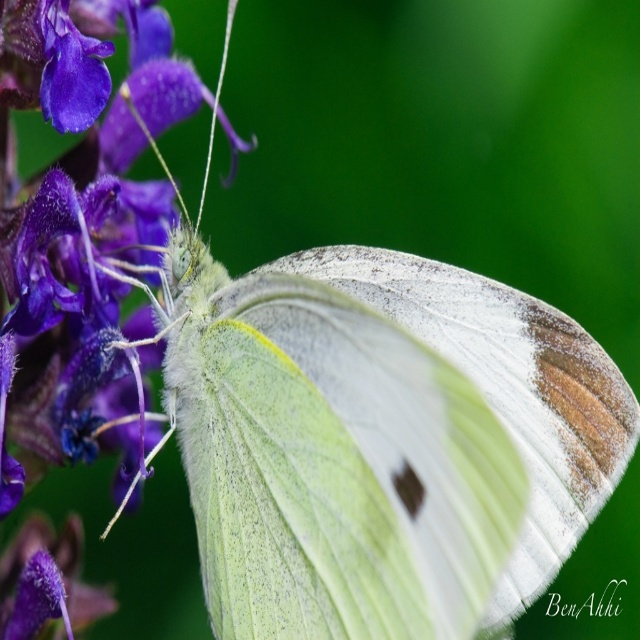Butterfly: (81, 0, 640, 640)
